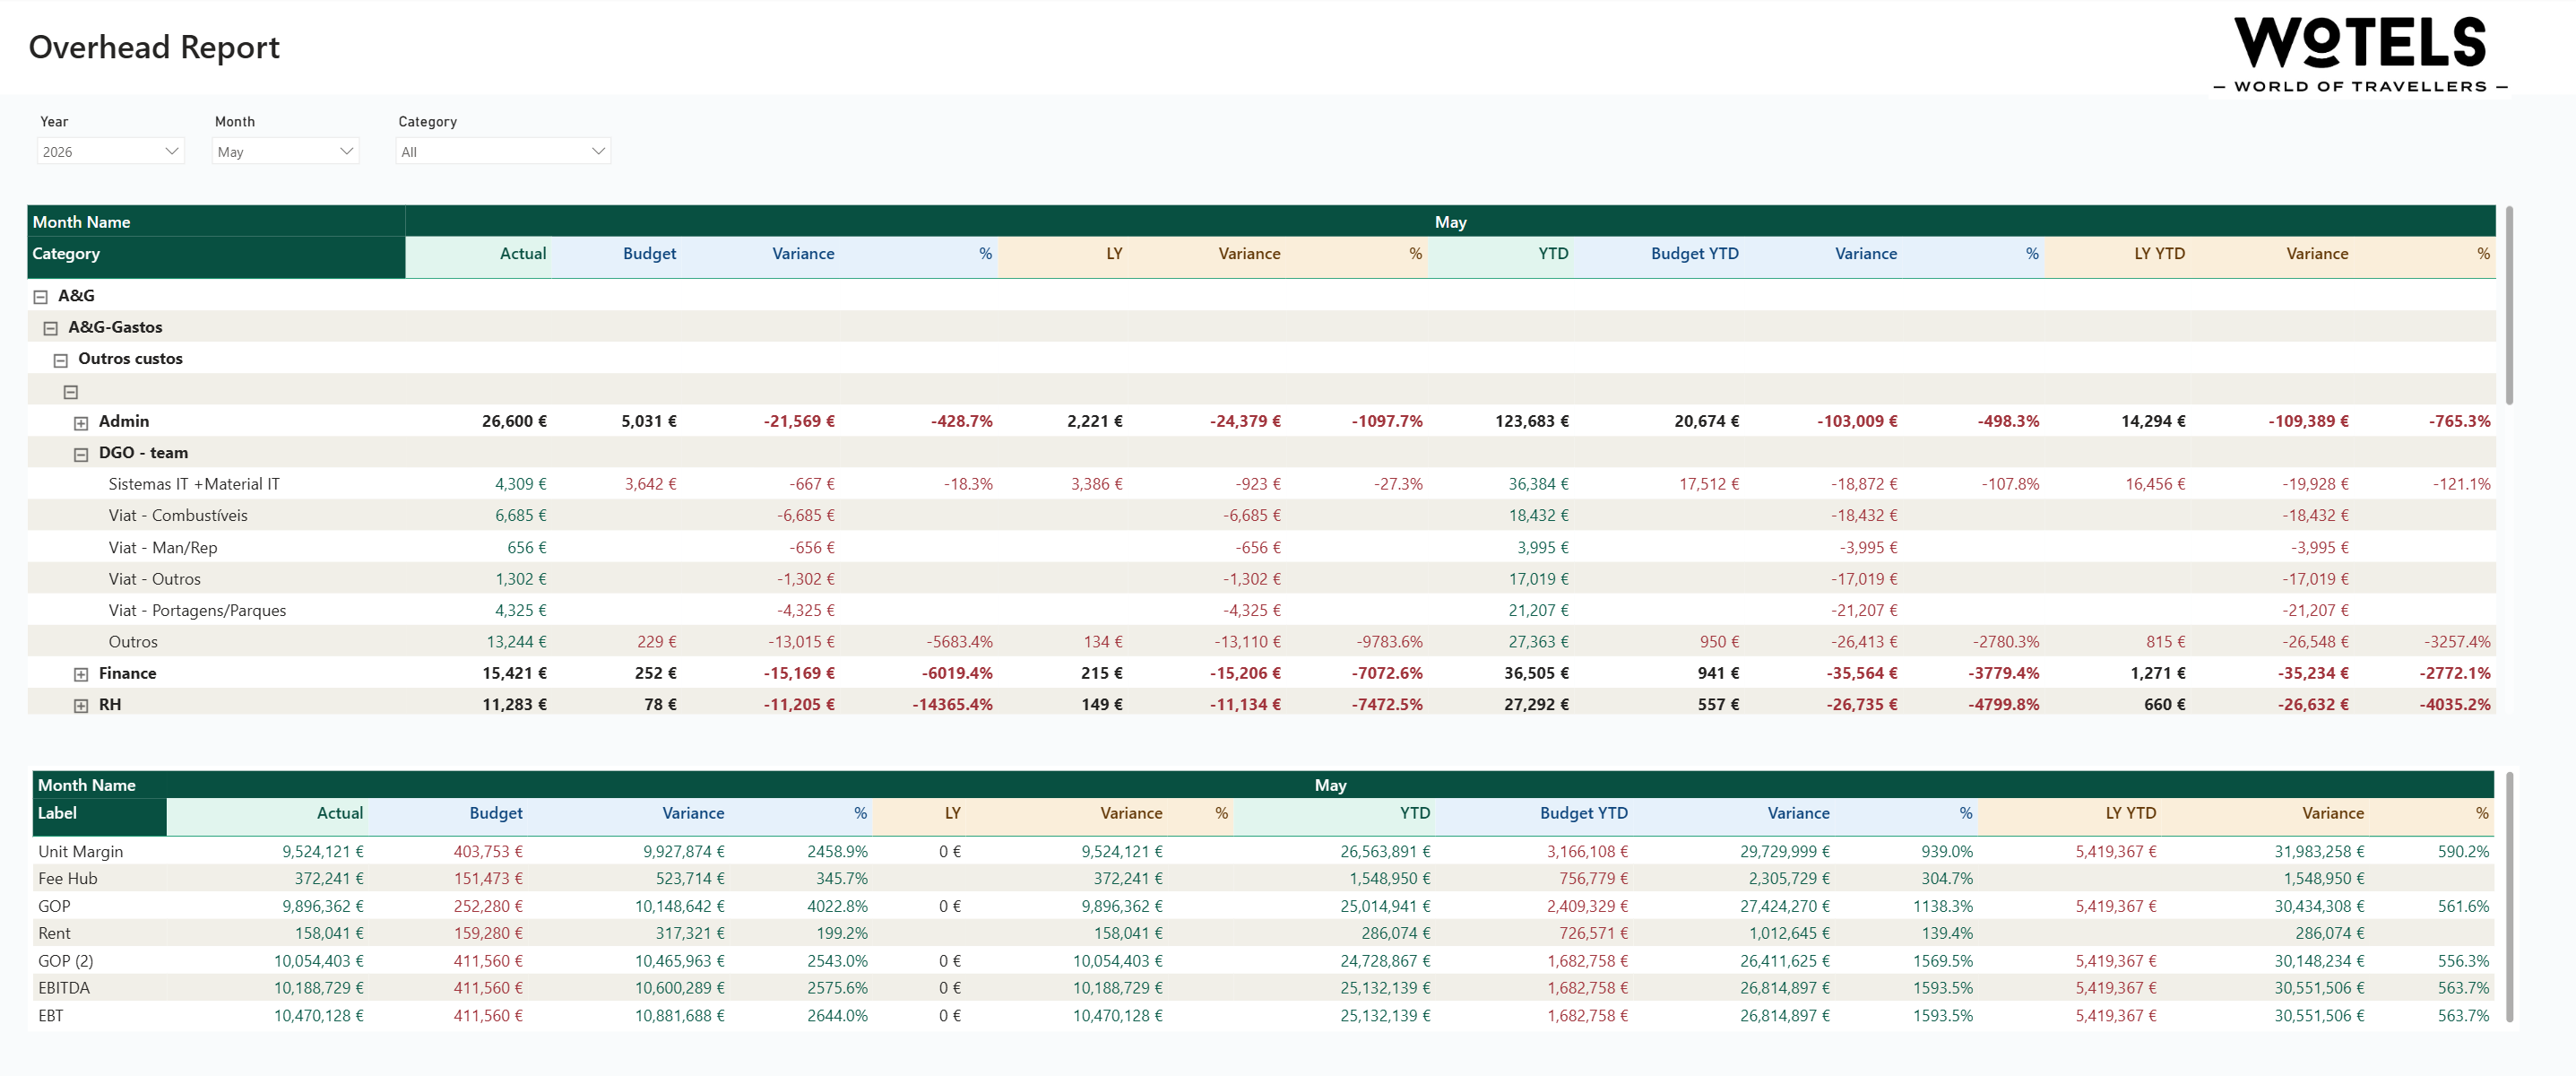

What the dashboard file says about the page in this screenshot:
{"tool":"powerbi","page":{"name":"Overhead Report","canvas":[2550,1080],"ordinal":4},"visuals":[{"type":"group","id":"g1","title":"Background Shapes","box":[3,0,2797.9,100],"z":0},{"type":"shape","box":[3,0,2797.9,95.9],"z":1000,"group":"g1"},{"type":"pivotTable","fields":{"Columns":["DateTable.Month Name"],"Rows":["Category Sort Table.Category","cost_centers.Sub Category (1)","cost_centers.Sub Category (2)","cost_centers.Sub Category (3)","cost_centers.Sub Category (4)","cost_centers.Cost Center Description"],"Values":["KPIs.Actual P&L","KPI_Finance.Budget P&L","KPI_Finance.Budget Variance","KPI_Finance.Budget Variance %","KPI_Finance.Actual P&L LY","KPI_Finance.LY P&L Variance","KPI_Finance.Unit LY Variance %","KPIs.Actual P&L YTD","KPI_Finance.Budget YTD","KPI_Finance.Budget Variance YTD","KPI_Finance.Budget Variance % YTD","KPI_Finance.LY YTD"]},"box":[25.6,200,2462.2,512.2],"z":1000},{"type":"image","box":[2174.2,3.3,313.3,96.7],"z":2000,"group":"g1"},{"type":"slicer","fields":{"Values":["DateTable.Year"]},"box":[29.6,109.7,166,76.8],"z":2000},{"type":"textbox","box":[26.4,20.7,357.5,62.2],"z":3000,"group":"g1"},{"type":"slicer","fields":{"Values":["Category Sort Table.Category"]},"box":[384,110,233,76],"z":4000},{"type":"slicer","fields":{"Values":["DateTable.Month Name"]},"box":[202.2,109.7,166,76.8],"z":8000},{"type":"pivotTable","fields":{"Columns":["DateTable.Month Name"],"Rows":["Footer_Table.Label"],"Values":["Footer_Table.Footer_Value","Footer_Table.Budget F","Footer_Table.Budget Variance F","Footer_Table.Budget Variance F %","Footer_Table.LY","Footer_Table.LY Variance F","Footer_Table.LY Variance F %","Footer_Table.YTD","Footer_Table.Budget YTD F","Footer_Table.Budget Variance YTD F","Footer_Table.Budget Variance YTD F %","Footer_Table.LY YTD F"]},"box":[31.1,757.8,2456.7,262.2],"z":9000}]}

Visuals, with their boxes in screenshot pixels (x1, y1, x2, y2), scaled from the page's 2550x1080 canvas onto the 2576x1076 screenshot:
"Background Shapes" group: l=3, t=0, r=2575, b=100
shape: l=3, t=0, r=2575, b=96
pivotTable - DateTable.Month Name x Category Sort Table.Category: l=26, t=199, r=2513, b=709
image: l=2196, t=4, r=2513, b=100
slicer - DateTable.Year: l=30, t=109, r=197, b=186
textbox: l=27, t=21, r=388, b=82
slicer - Category Sort Table.Category: l=388, t=109, r=623, b=186
slicer - DateTable.Month Name: l=204, t=109, r=372, b=186
pivotTable - DateTable.Month Name x Footer_Table.Label: l=31, t=755, r=2513, b=1016
